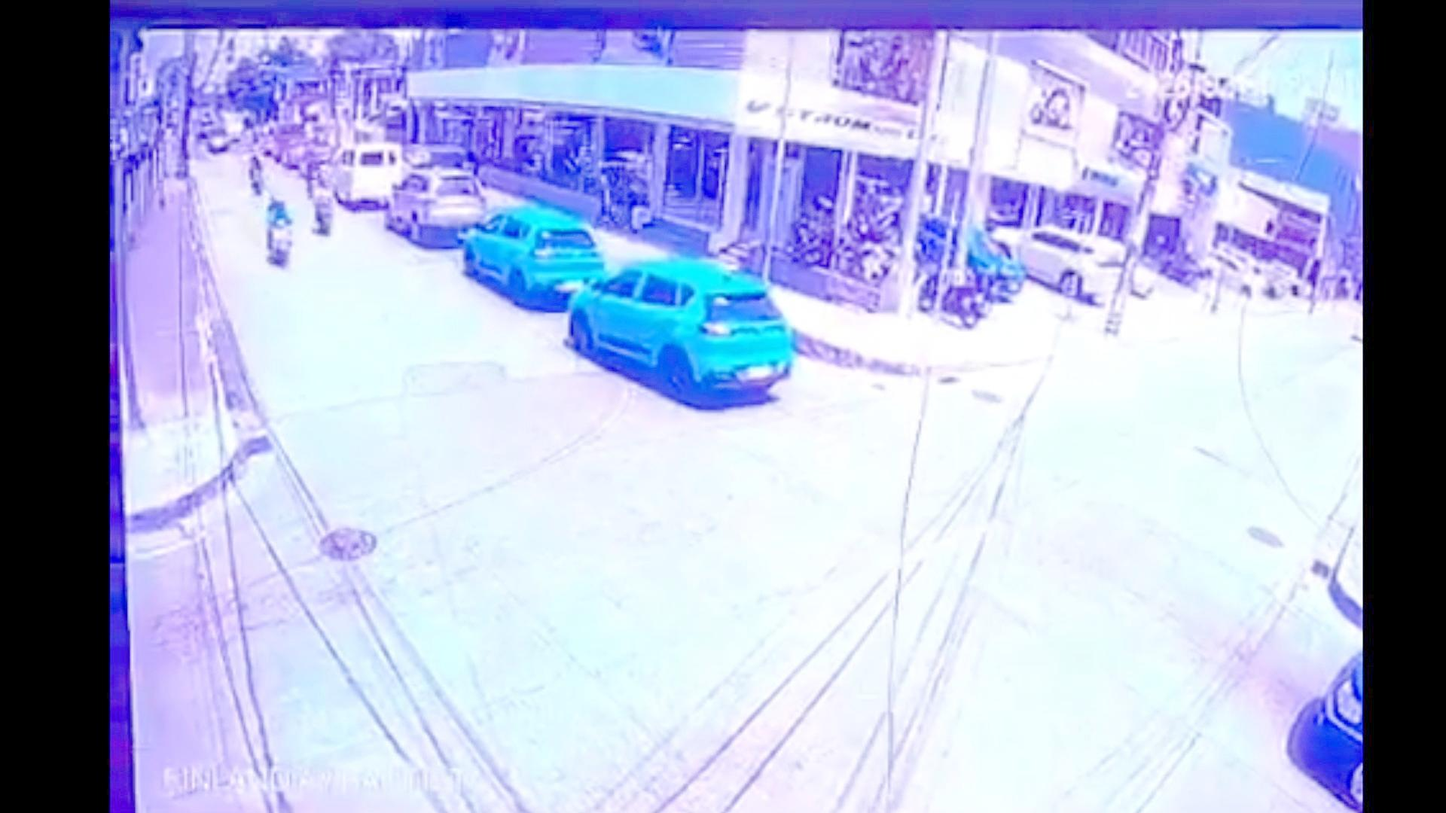Car: (573, 257, 791, 408), (457, 201, 607, 305), (1287, 635, 1364, 813), (910, 216, 1027, 303), (1009, 225, 1139, 302), (385, 165, 490, 244), (1204, 244, 1303, 298), (324, 143, 404, 209), (207, 130, 233, 153)
Motor: (916, 248, 983, 329), (1163, 243, 1205, 287), (265, 213, 294, 266), (313, 195, 335, 235), (300, 152, 325, 185), (248, 166, 264, 196)
